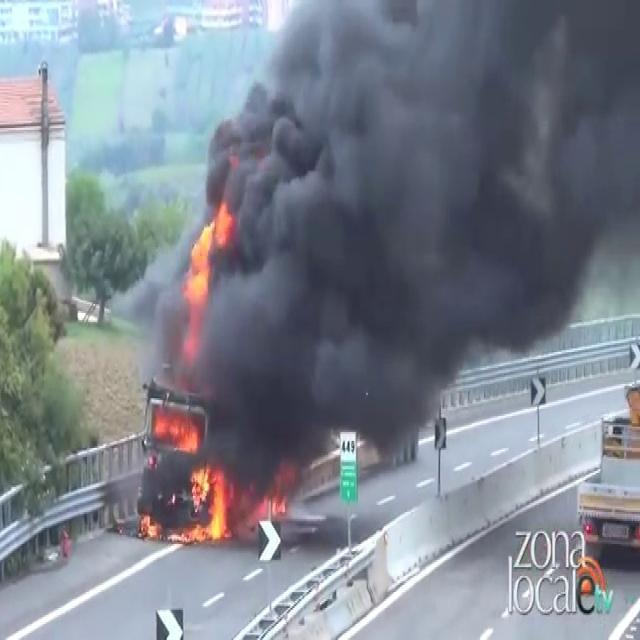Fire: (183, 194, 232, 300), (183, 451, 233, 544), (150, 406, 202, 456)
Smoke: (162, 0, 640, 482)
